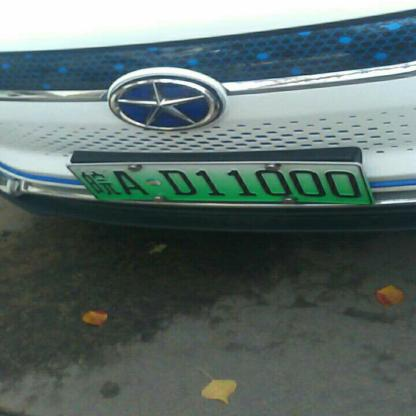lp: (68, 164, 372, 202)
